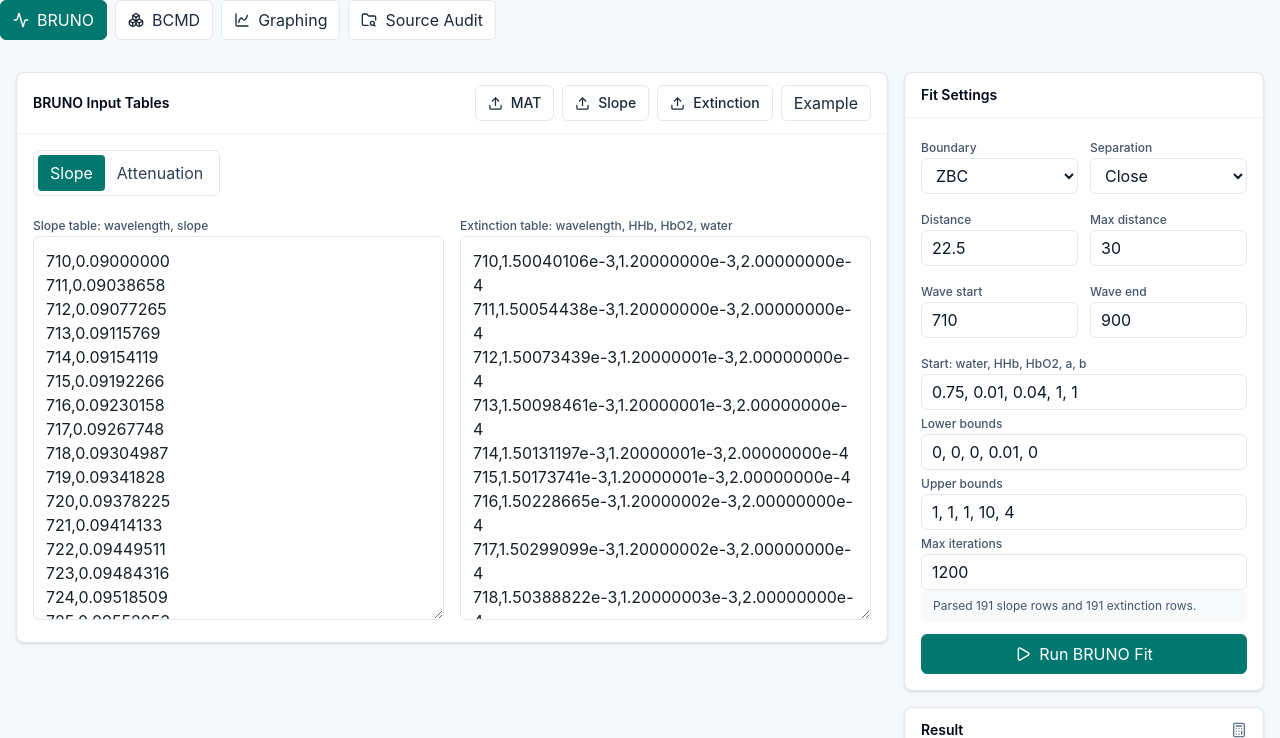
Test: DevToolsPanel › opens BRUNO by default and switches to BCMD and Source Audit
Check: the heading "BRUNO Input Tables" is shown, box [33,93,169,113]
Click the button "BCMD". click: (164, 20)
box: [115,0,213,40]
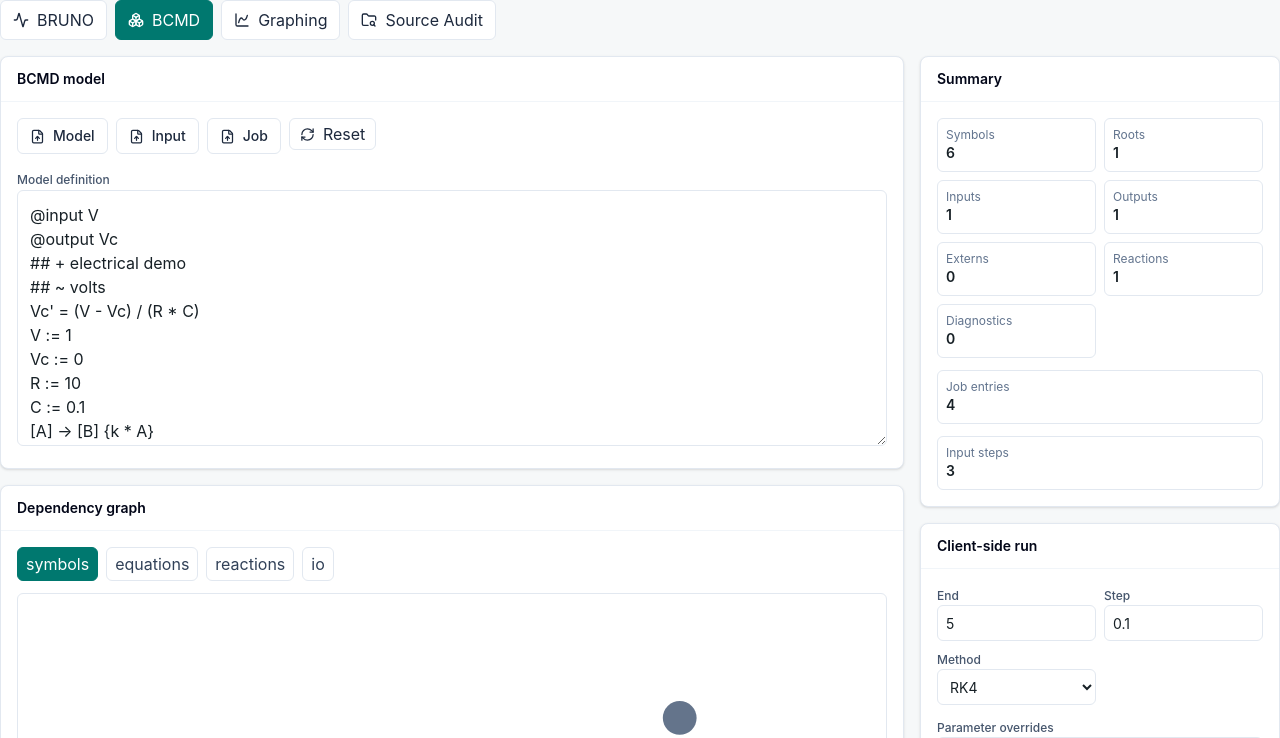
Check: the heading "BCMD model" is shown, box [17,70,105,87]
Click the button "Graphing". click: (281, 20)
box: [221,0,340,40]
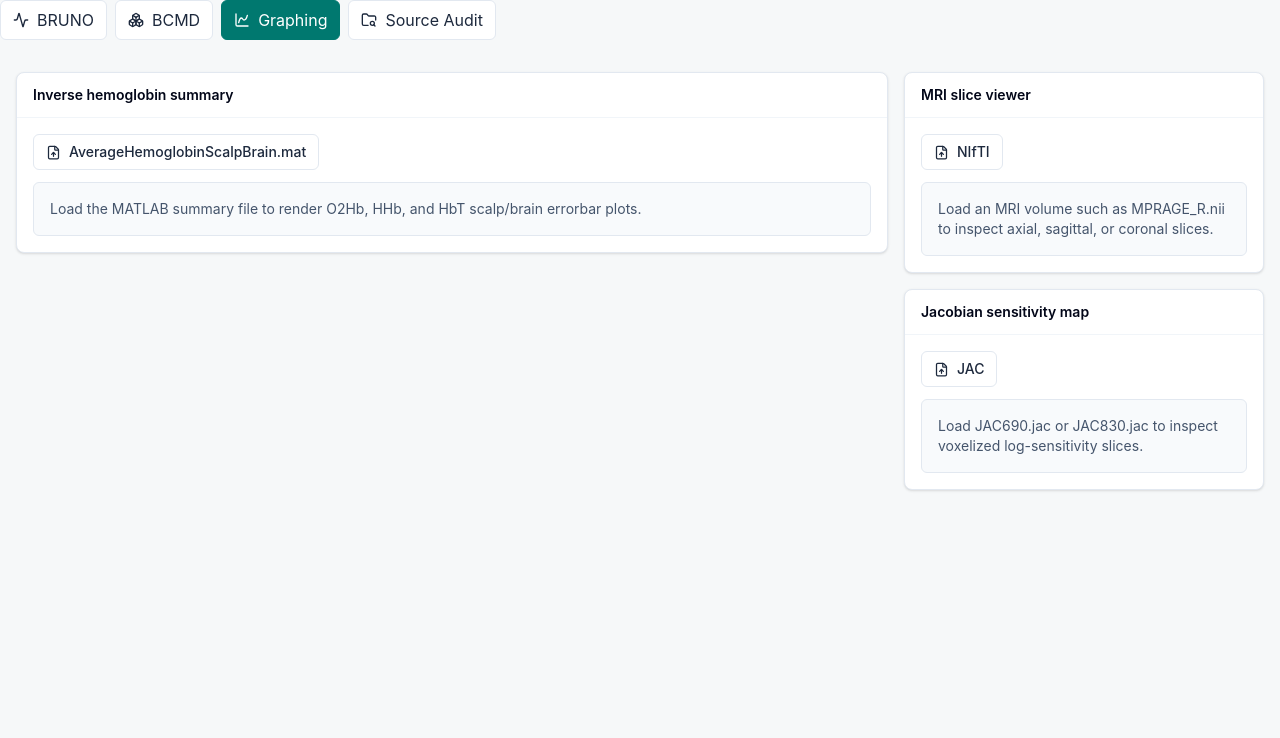
Check: the heading "Inverse hemoglobin summary" is shown, box [33,86,234,103]
Click the button "Source Audit". click: (422, 20)
box: [348,0,496,40]
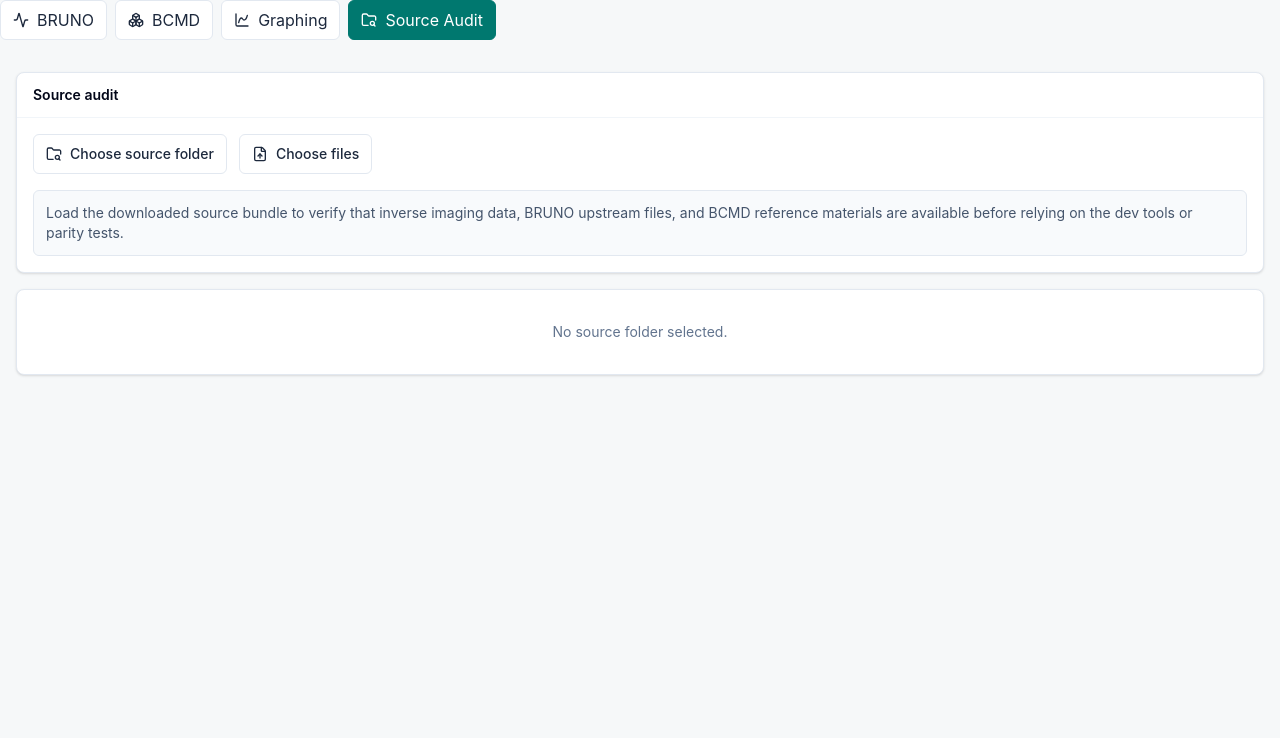
Check: the heading "Source audit" is shown, box [33,86,118,103]
Check: the text "No source folder selected." is shown, box [552,323,727,340]
